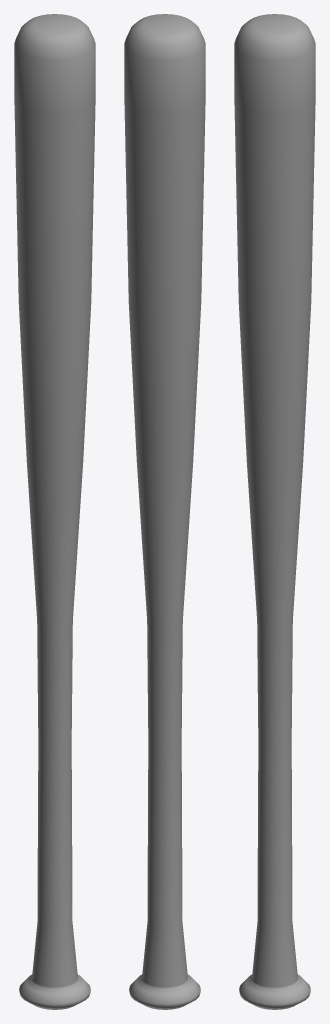
The model's file is BaseballBat_3.glb.
3 renders of one model, left to right at view 1: azimuth 30°, elevation 25°; view 2: azimuth 150°, elevation 25°; view 3: azimuth 330°, elevation 25°, orthographic.
Parts seen in each view (by area): view 1: BaseballBat_3; view 2: BaseballBat_3; view 3: BaseballBat_3.
Part boxes in pixels (x1,y1,x2,y2): BaseballBat_3: (14,14,95,1009); BaseballBat_3: (124,14,205,1009); BaseballBat_3: (234,14,315,1009).
Size of the model in its own units: 0.0719 by 0.9525 by 0.0719.
Materials: 1 (1 with a texture image).
